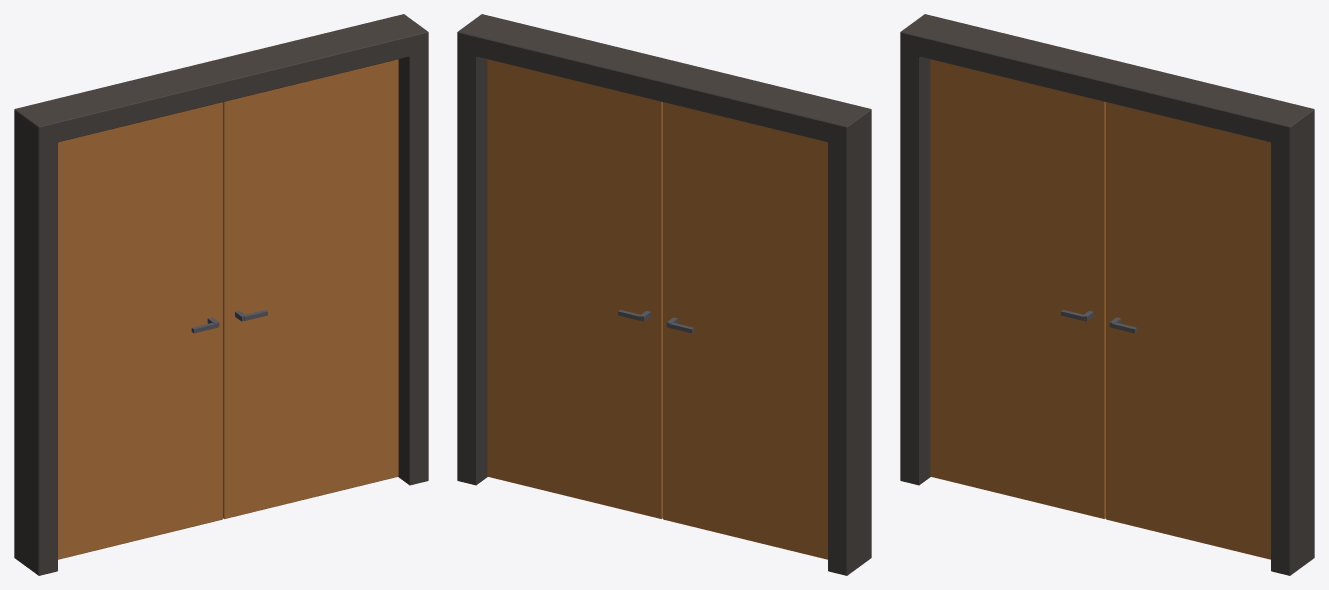
The model's file is arch_door_double_t20.glb.
3 views of the same model, side by side, from view 1: azimuth 30°, elevation 25°; view 2: azimuth 150°, elevation 25°; view 3: azimuth 330°, elevation 25° (orthographic).
Parts seen in each view (by area): view 1: LeafMesh2, LeafMesh, Frame; view 2: LeafMesh2, LeafMesh, Frame; view 3: LeafMesh, LeafMesh2, Frame.
Boxes of the visible parts, <box> form: LeafMesh2: <box>223,59,398,518</box>; LeafMesh: <box>58,102,222,559</box>; Frame: <box>14,14,428,575</box>; LeafMesh2: <box>487,59,662,518</box>; LeafMesh: <box>663,102,827,559</box>; Frame: <box>457,14,871,575</box>; LeafMesh: <box>930,59,1105,518</box>; LeafMesh2: <box>1106,102,1270,559</box>; Frame: <box>900,14,1314,575</box>.
Size of what is drawn, in the model's own units: 2 by 2.2 by 0.22.
